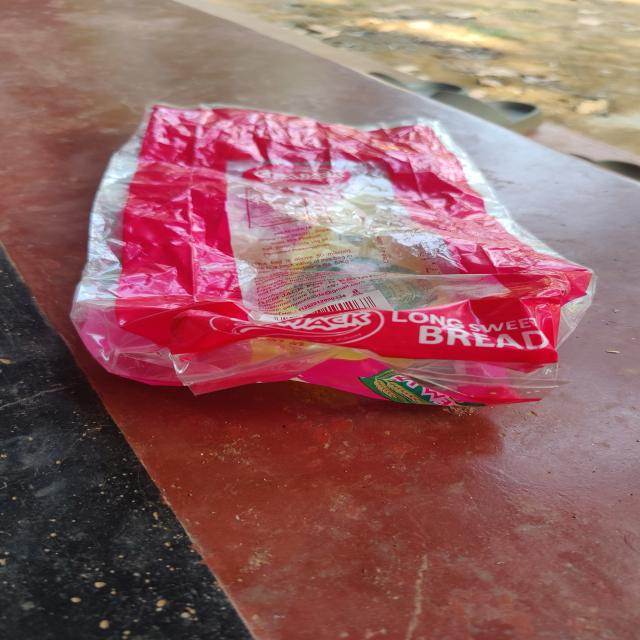plastic: (74, 101, 594, 422)
